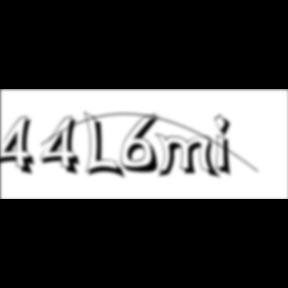4: (40, 115, 86, 179), (0, 115, 42, 179)
6: (120, 112, 166, 176)
L: (84, 110, 128, 182)
i: (215, 112, 239, 180)
m: (155, 132, 223, 181)
